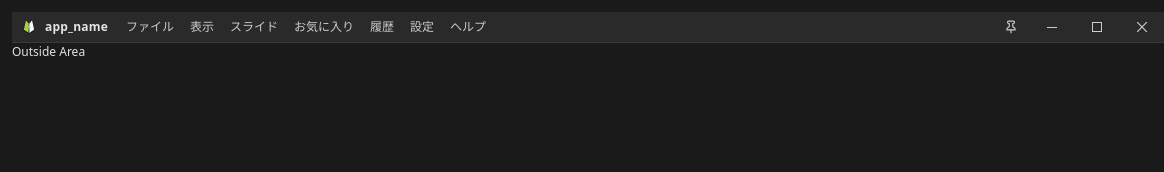
Scenario: MenuBar Navigation & Interactions › メニューをクリックするとドロップダウンが開き、外部をクリックすると閉じる
Expected: the text "フォルダを開く" is not shown
Click the button "ファイル" at (150, 27), box [118,12,182,42]
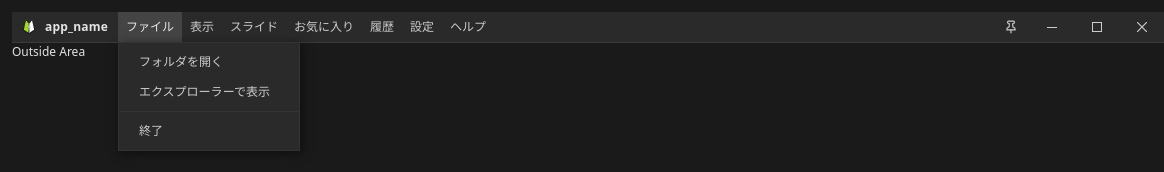
Expected: the list item "フォルダを開く" is shown, [139,53,223,70]
Press the mouse on the text with test id "outside-area" at (49, 52), box [12,43,85,60]
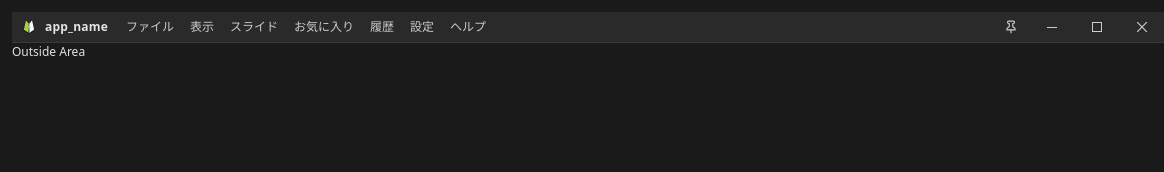
Expected: the list item "フォルダを開く" is gone
